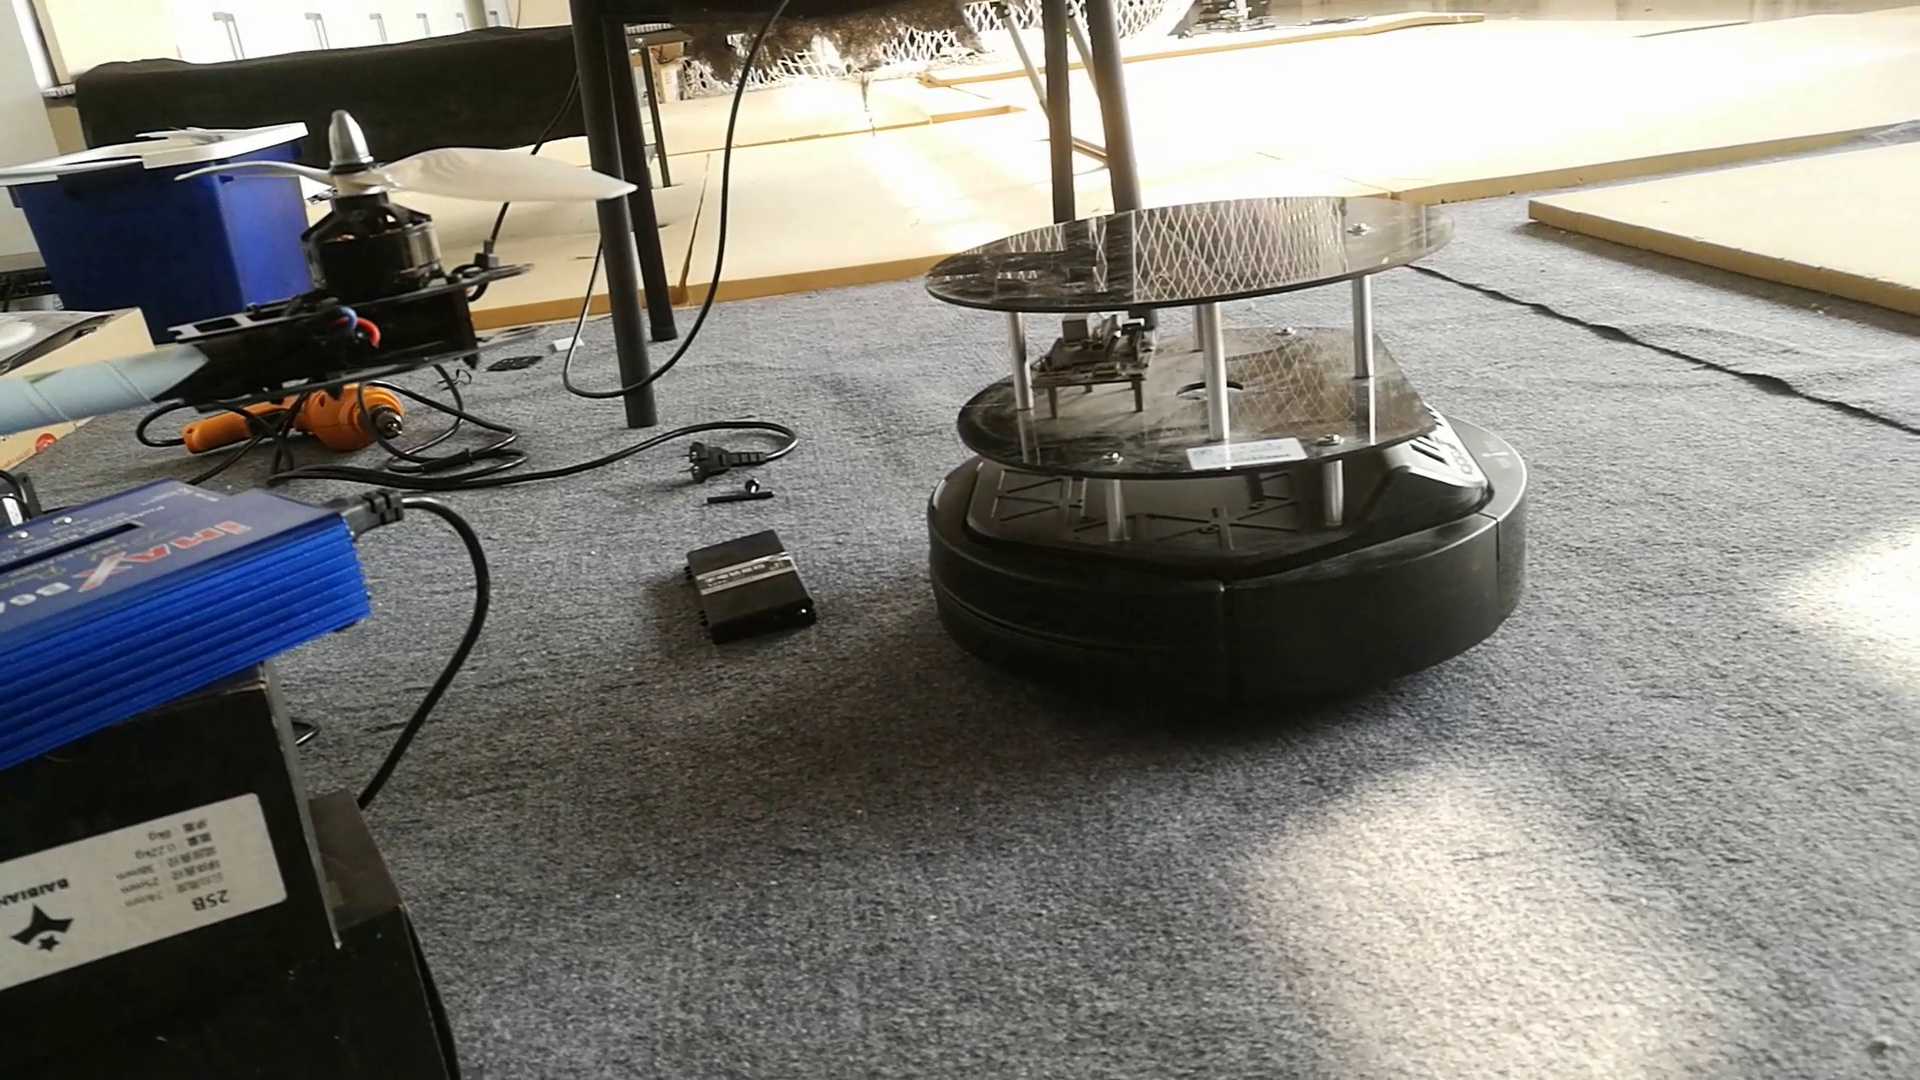t: (915, 175, 1528, 691)
